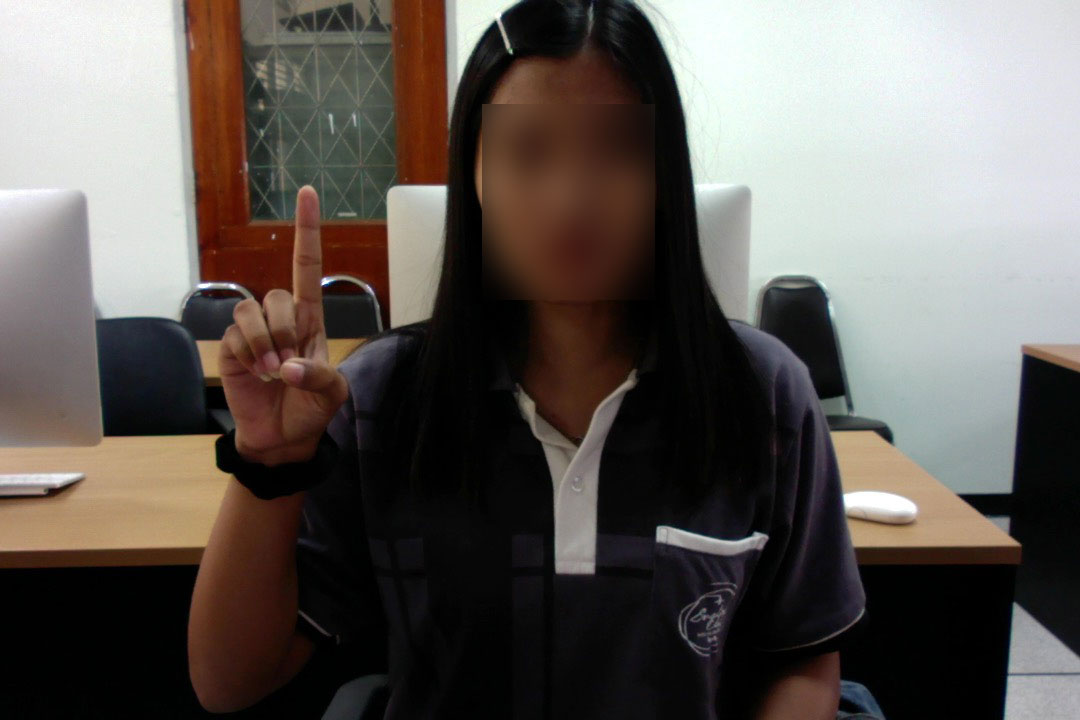dor: (206, 172, 353, 463)
